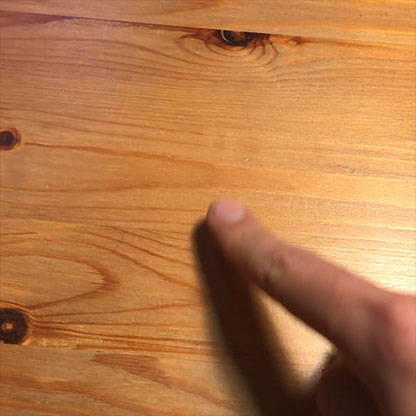fingertip: (199, 187, 259, 238)
